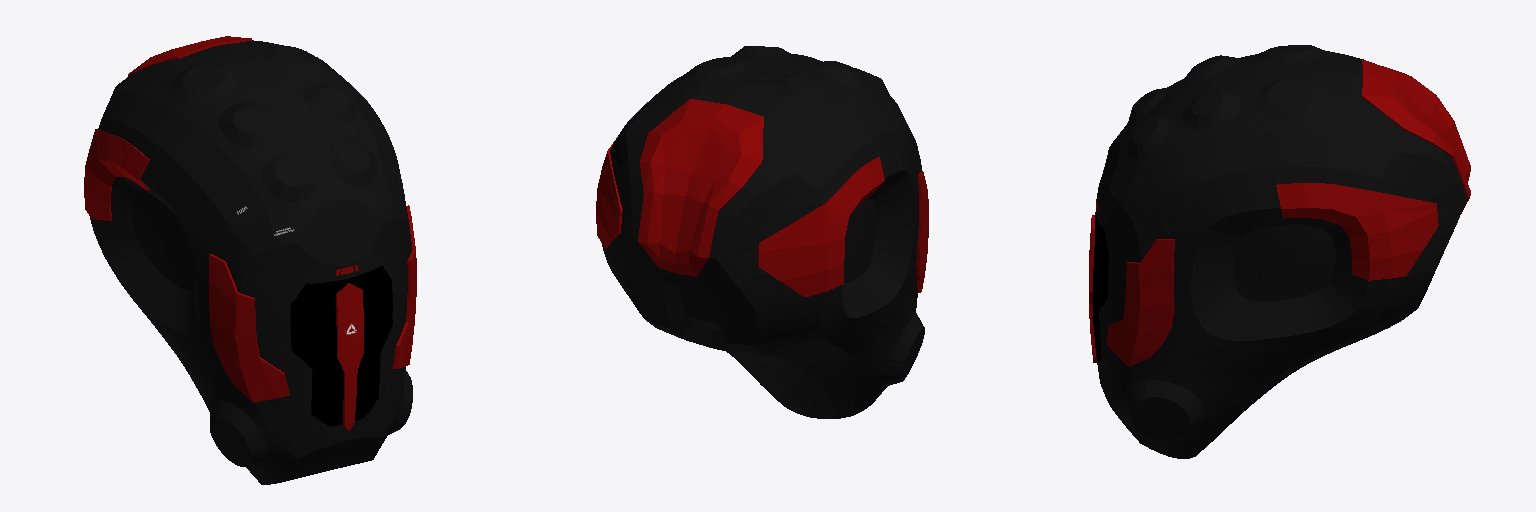
The picture shows the model from 3 angles: view 1: azimuth 30°, elevation 25°; view 2: azimuth 150°, elevation 25°; view 3: azimuth 270°, elevation 25°; orthographic projection.
Visible parts, largest first — view 1: Plane.011_Plane.017; view 2: Plane.011_Plane.017; view 3: Plane.011_Plane.017.
Part boxes in pixels (left/top/right/bottom): Plane.011_Plane.017: left=84, top=36, right=416, bottom=484; Plane.011_Plane.017: left=596, top=46, right=928, bottom=418; Plane.011_Plane.017: left=1089, top=45, right=1470, bottom=458.
Size of the model in its own units: 1.73 by 2.59 by 2.37.
Materials: 1 (1 with a texture image).